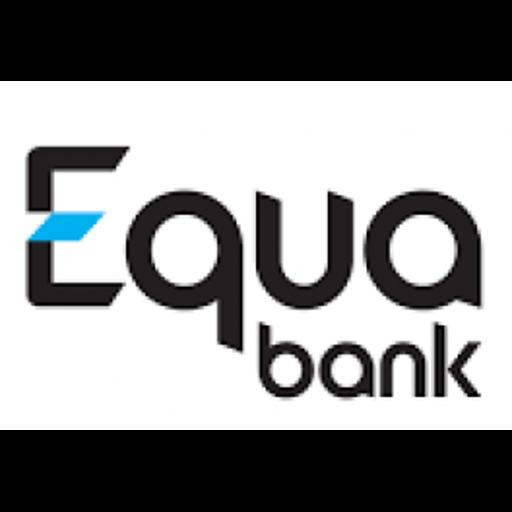Equa bank: (0, 81, 512, 430)
